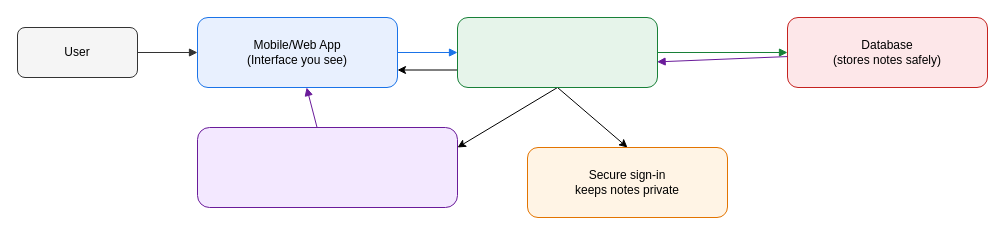
Some shapes in this 1005 by 235 pixel diagram are drawn without their labels. Here are the shapes that lost their labels. From the top down, the box of each, then its label:
(456, 16, 658, 88): Server (handles requests)
(196, 126, 458, 208): Updates flow back to the app so you always see current notes
